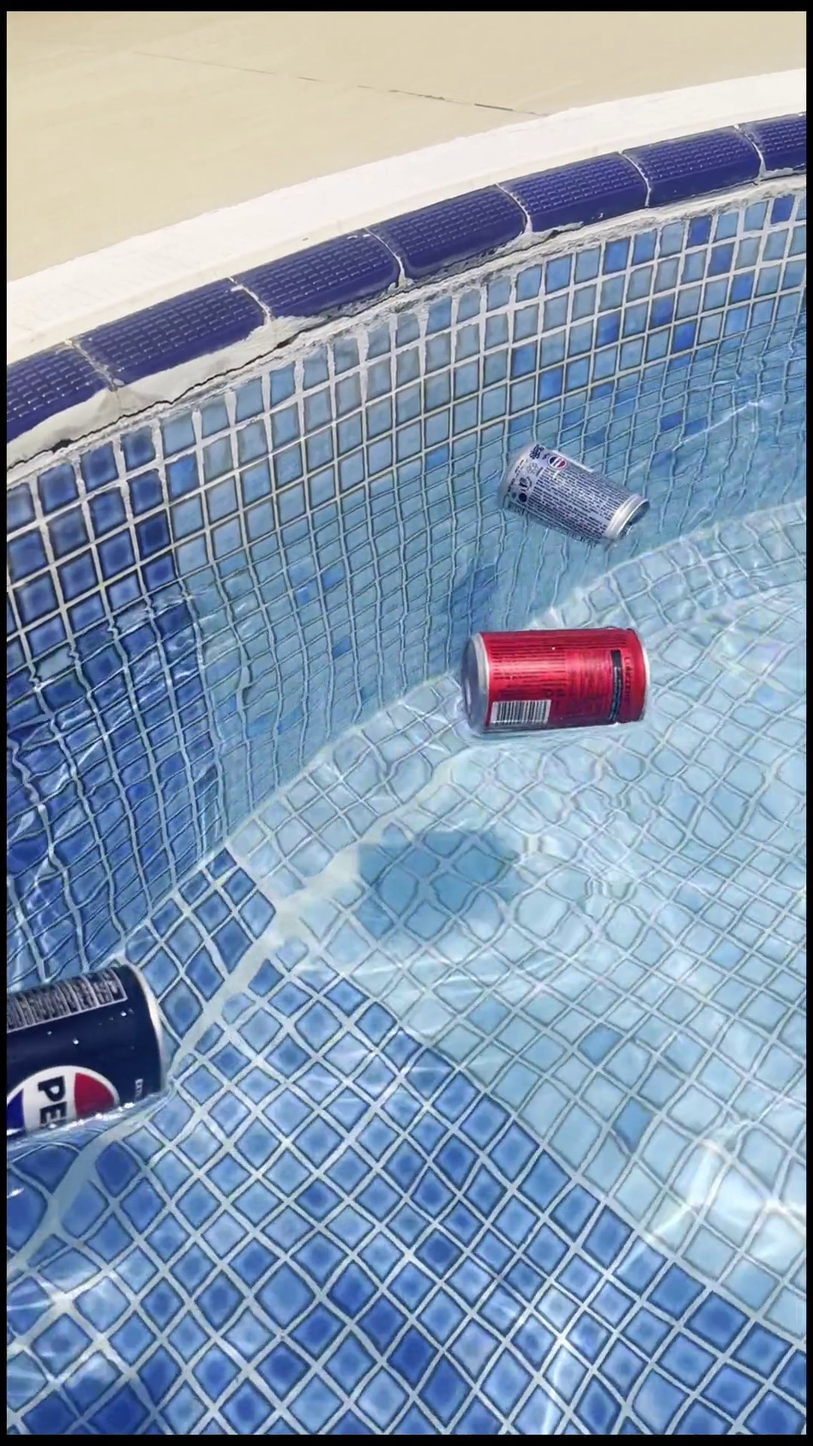debris: (8, 933, 174, 1169), (455, 579, 654, 768), (494, 410, 651, 579)
